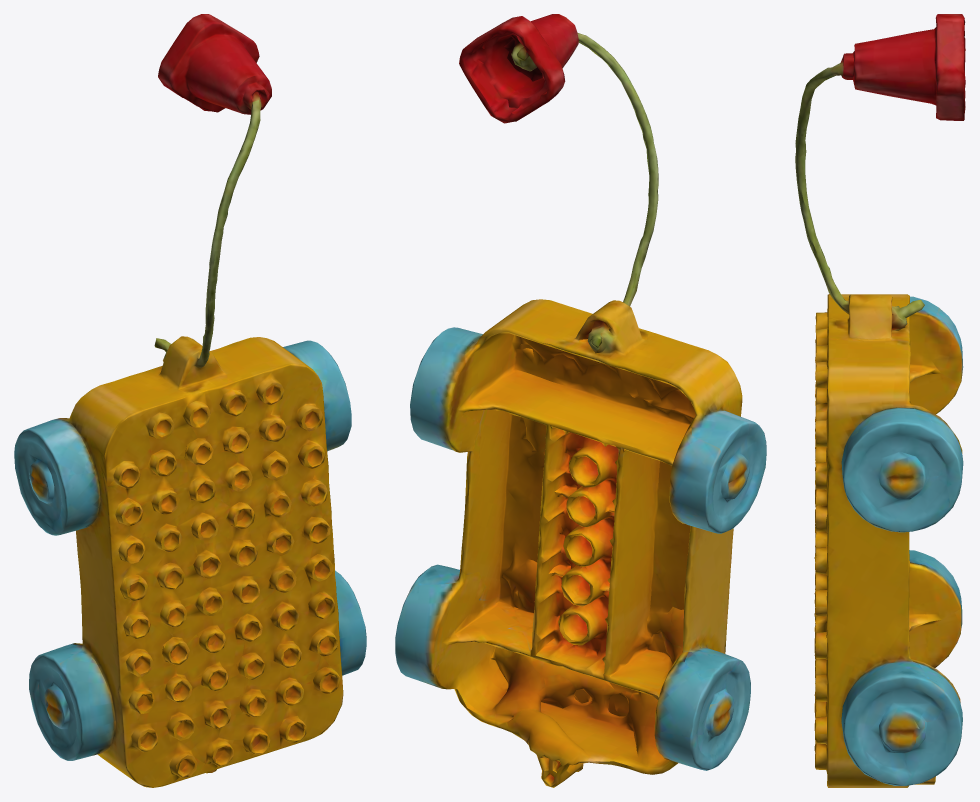
Rendered from ddg-ycb_073-g_lego_duplo.glb.
The picture shows the model from 3 angles, left to right: view 1: azimuth 30°, elevation 25°; view 2: azimuth 150°, elevation 25°; view 3: azimuth 270°, elevation 25°; orthographic projection. The views are drawn at different scales.
Visible parts, largest first — view 1: textured(Clone); view 2: textured(Clone); view 3: textured(Clone).
Part boxes in pixels (x1,y1,x2,y2): textured(Clone): (14, 14, 366, 787); textured(Clone): (395, 14, 766, 787); textured(Clone): (795, 14, 965, 787).
Size of the model in its own units: 0.8439 by 1.92 by 0.379.
Materials: 1 (1 with a texture image).
